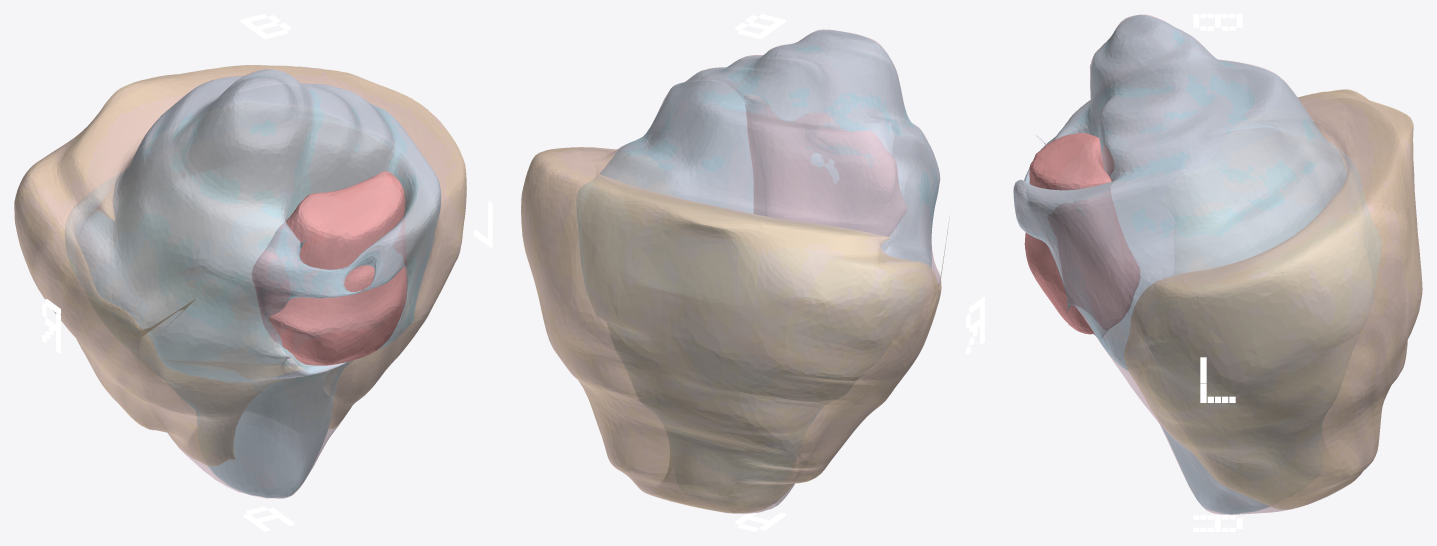
The picture shows the model from 3 angles, left to right: view 1: azimuth 30°, elevation 25°; view 2: azimuth 150°, elevation 25°; view 3: azimuth 270°, elevation 25°; orthographic projection.
Parts seen in each view (by area): view 1: prostate_gland, transition_zone, peripheral_zone, lesion_01, pv_ar_marker_B, pv_ar_marker_R; view 2: prostate_gland, peripheral_zone, transition_zone, lesion_01, pv_ar_marker_B, pv_ar_marker_R; view 3: prostate_gland, peripheral_zone, transition_zone, lesion_01, pv_ar_marker_B, pv_ar_marker_A, pv_ar_marker_L.
Part boxes in pixels (bbox=[...]): prostate_gland: bbox=[14, 65, 466, 498]; transition_zone: bbox=[65, 69, 440, 497]; peripheral_zone: bbox=[14, 65, 466, 465]; lesion_01: bbox=[252, 171, 407, 365]; pv_ar_marker_B: bbox=[240, 14, 290, 39]; pv_ar_marker_R: bbox=[42, 299, 60, 353]; prostate_gland: bbox=[521, 29, 941, 513]; peripheral_zone: bbox=[521, 147, 949, 513]; transition_zone: bbox=[576, 30, 939, 503]; lesion_01: bbox=[744, 94, 906, 236]; pv_ar_marker_B: bbox=[735, 14, 785, 39]; pv_ar_marker_R: bbox=[966, 297, 984, 354]; prostate_gland: bbox=[1013, 14, 1422, 514]; peripheral_zone: bbox=[1124, 89, 1422, 509]; transition_zone: bbox=[1014, 15, 1381, 514]; lesion_01: bbox=[1024, 133, 1140, 334]; pv_ar_marker_B: bbox=[1193, 14, 1242, 30]; pv_ar_marker_A: bbox=[1193, 515, 1242, 531]; pv_ar_marker_L: bbox=[1200, 357, 1235, 402].
Bounding box in the file's own units: 0.0701 × 0.0763 × 0.0563.
